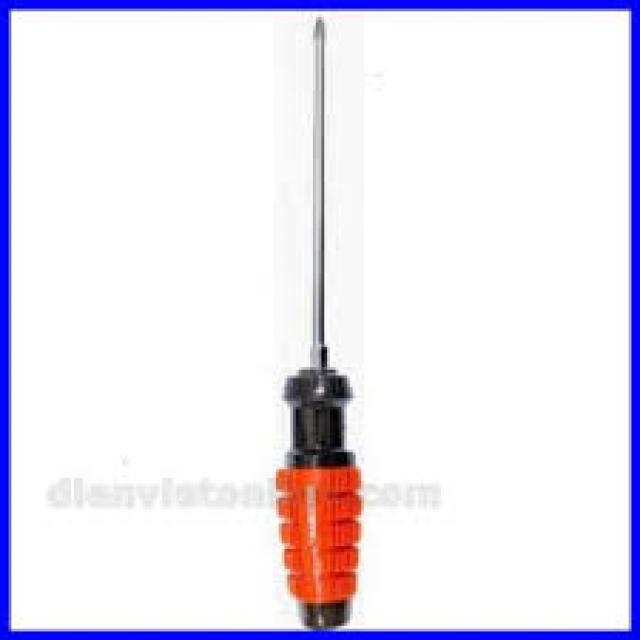screwdriver: (70, 86, 556, 494)
